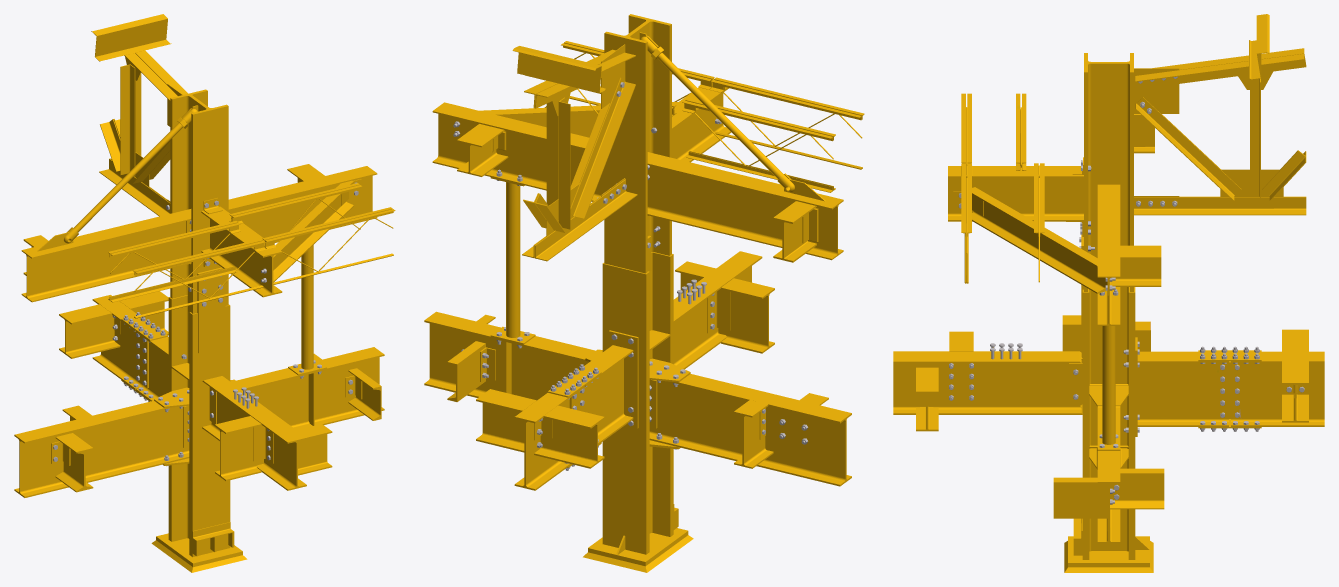
File: IMCA conexiones.glb
3 views of the same model, side by side, from view 1: azimuth 30°, elevation 25°; view 2: azimuth 150°, elevation 25°; view 3: azimuth 270°, elevation 25° (orthographic). The views are drawn at different scales.
Visible parts, largest first — view 1: CONJUNTO DE COLUMNAS Y ENSAMBLE (3); view 2: CONJUNTO DE COLUMNAS Y ENSAMBLE (3), Pieza faltanate Arbol de conexiones; view 3: CONJUNTO DE COLUMNAS Y ENSAMBLE (3).
Part boxes in pixels (box(x1,y1,x2,y2)): CONJUNTO DE COLUMNAS Y ENSAMBLE (3): box(14, 14, 395, 572); CONJUNTO DE COLUMNAS Y ENSAMBLE (3): box(424, 14, 864, 572); Pieza faltanate Arbol de conexiones: box(734, 400, 773, 468); CONJUNTO DE COLUMNAS Y ENSAMBLE (3): box(893, 14, 1324, 572).
Bounding box in the file's own units: 50.44 × 63.79 × 47.5.
2 materials, 2 textured.
